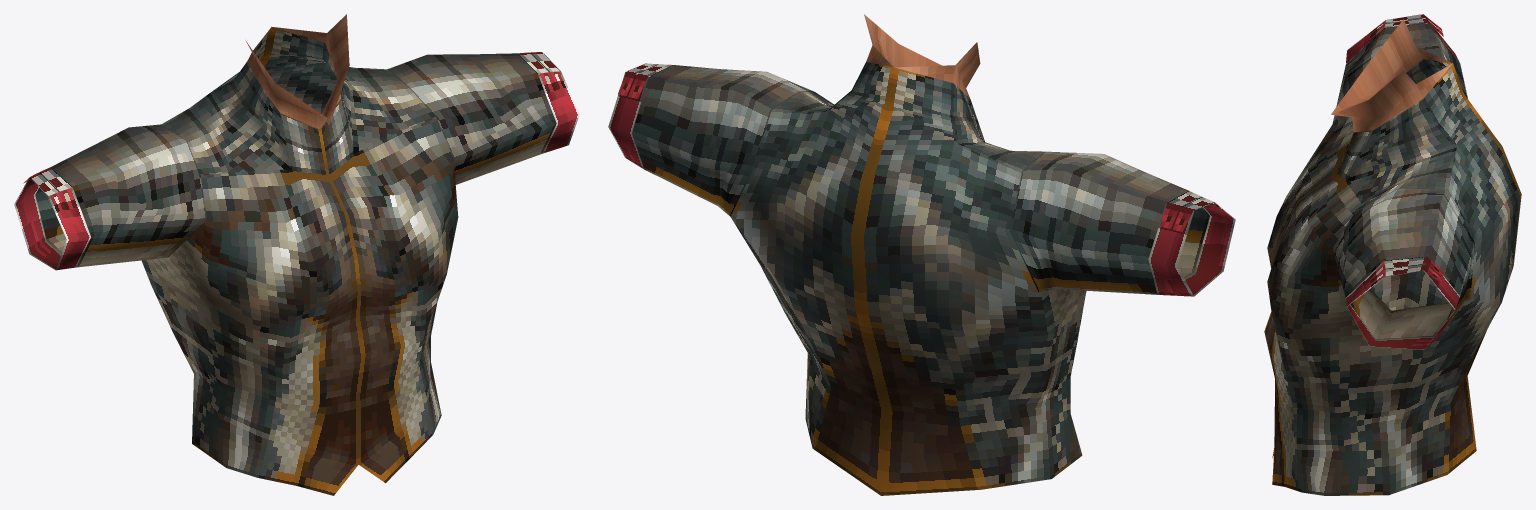
File: m_body032.glb
3 views of the same model, side by side, from view 1: azimuth 30°, elevation 25°; view 2: azimuth 150°, elevation 25°; view 3: azimuth 270°, elevation 25° (orthographic). The views are drawn at different scales.
Size of the model in its own units: 72 by 55.83 by 30.5.
2 materials, 2 textured.
